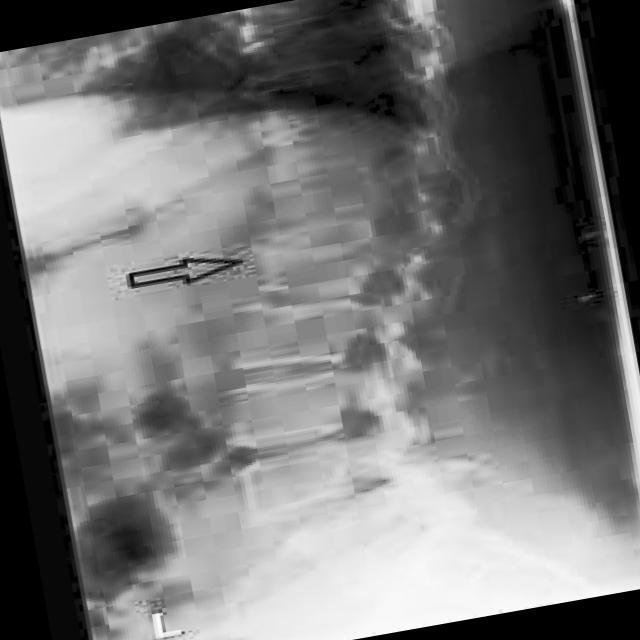Impact Fracture: (245, 227, 392, 298)
